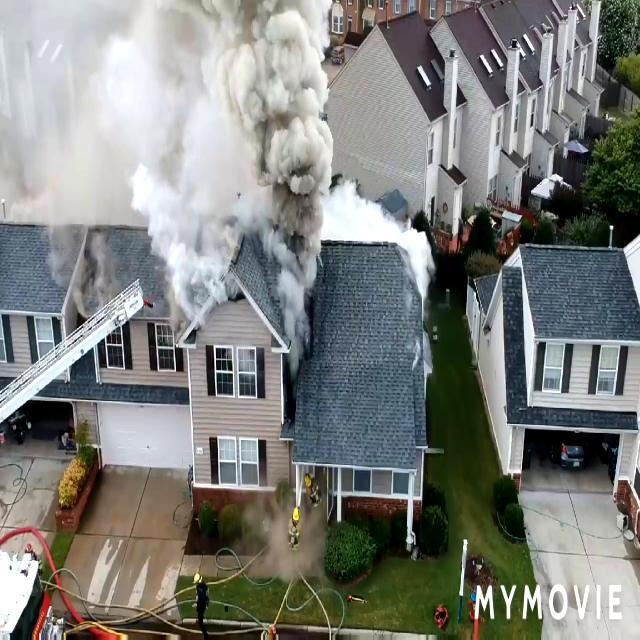Smoke: (31, 0, 348, 332), (328, 182, 426, 264)
